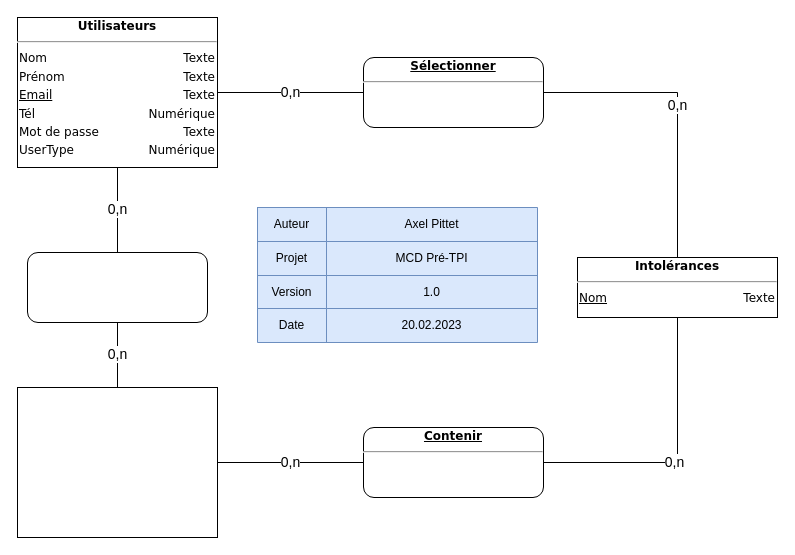
This 795x555 diagram has some shape labels left out. Here are the shapes that lost their labels. From the top down, the box of each, then its label:
(26, 252, 208, 322): Commander
(16, 386, 218, 538): Plats Nom Description Texte Texte Prix Image Numérique Texte
